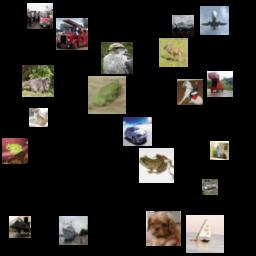airplane: (200, 6, 229, 35), (172, 15, 194, 37), (9, 216, 31, 238)
automobile: (123, 117, 152, 146), (27, 3, 53, 29)
bird: (101, 42, 133, 74), (210, 141, 229, 160)
cat: (22, 65, 54, 97)
deer: (159, 38, 188, 67)
dog: (146, 211, 181, 246), (29, 108, 48, 127)
frog: (88, 76, 126, 114), (139, 148, 174, 183), (2, 138, 28, 164)
ship: (186, 215, 224, 253), (59, 216, 88, 245)
truck: (56, 18, 88, 50), (207, 71, 233, 97), (202, 179, 218, 195)
